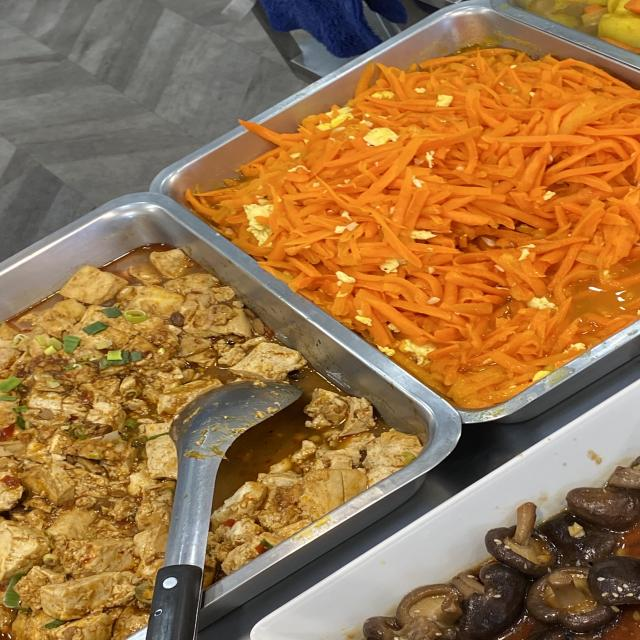Mapo Tofu: (5, 332, 158, 549)
Scrambled eggs with carrots: (336, 103, 632, 280)
